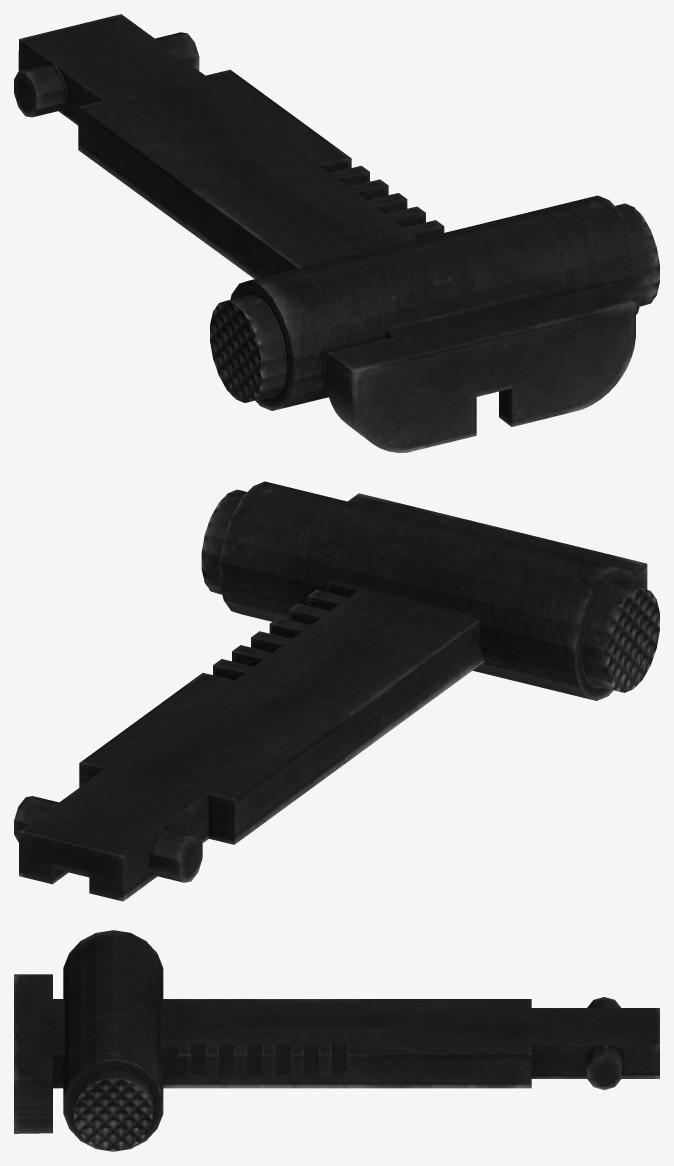
The picture shows the model from 3 angles, top to bottom: view 1: azimuth 30°, elevation 25°; view 2: azimuth 150°, elevation 25°; view 3: azimuth 270°, elevation 25°; orthographic projection. The views are drawn at different scales.
Visible parts, largest first — view 1: TW_628a7b23b0f75035732dd565_PZ_Import; view 2: TW_628a7b23b0f75035732dd565_PZ_Import; view 3: TW_628a7b23b0f75035732dd565_PZ_Import.
Part boxes in pixels (x1,y1,x2,y2): TW_628a7b23b0f75035732dd565_PZ_Import: [14, 14, 659, 452]; TW_628a7b23b0f75035732dd565_PZ_Import: [14, 481, 659, 901]; TW_628a7b23b0f75035732dd565_PZ_Import: [14, 930, 659, 1151].
Bounding box in the file's own units: 0.0179 × 0.0331 × 0.00601.
Materials: 1 (1 with a texture image).
